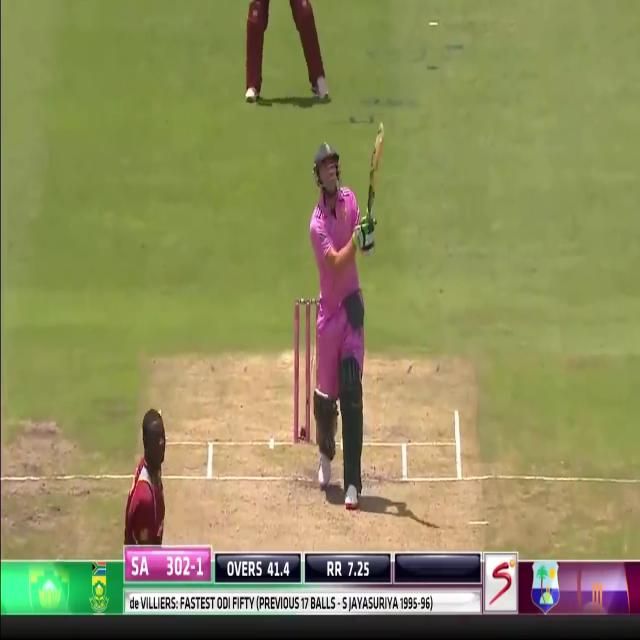Ball: (295, 137, 371, 510)
Fielder: (296, 130, 369, 512), (124, 409, 169, 546), (241, 2, 277, 104)
